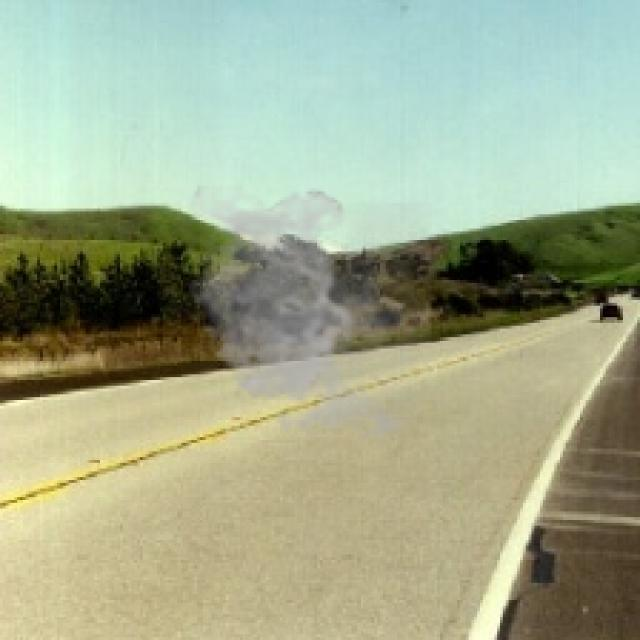Smoke: (180, 185, 432, 448)
